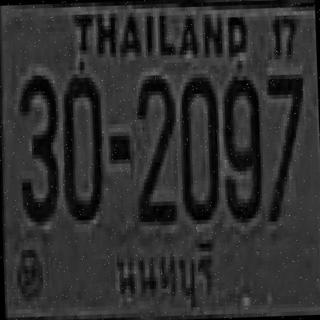N00: (60, 73, 104, 221), (176, 73, 220, 221)
N02: (134, 73, 177, 224)
N03: (16, 71, 60, 222)
N07: (262, 72, 306, 220)
N09: (220, 72, 264, 219)
P37: (109, 231, 221, 312)
